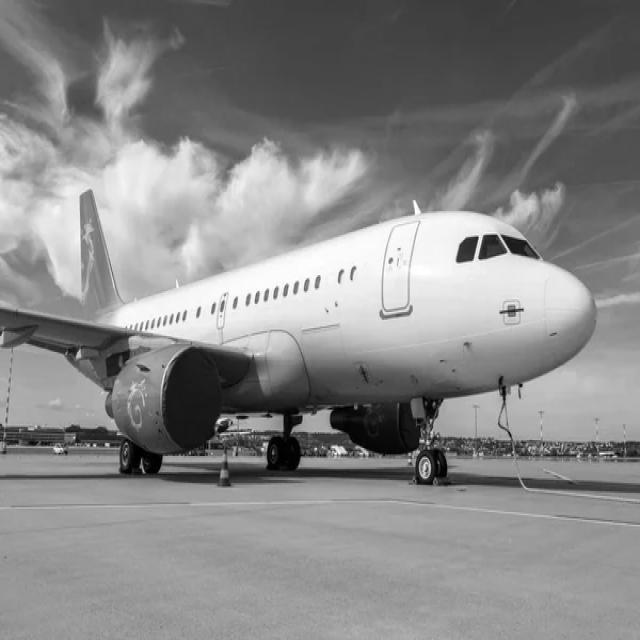Aircraft: (6, 189, 600, 500)
